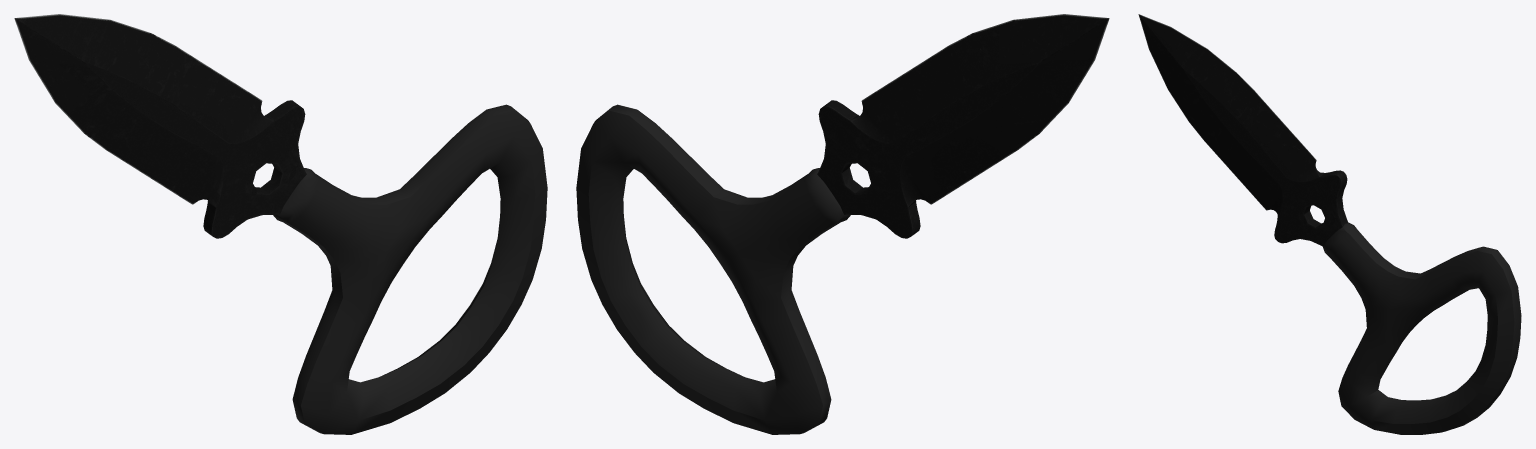
The model's file is benchmade_175_push_dagger_knife.glb.
3 renders of one model, left to right at view 1: azimuth 30°, elevation 25°; view 2: azimuth 150°, elevation 25°; view 3: azimuth 330°, elevation 25°, orthographic. The views are drawn at different scales.
Visible parts, largest first — view 1: Object_2; view 2: Object_2; view 3: Object_2.
Boxes of the visible parts, bbox=[...] form: Object_2: bbox=[14, 14, 547, 434]; Object_2: bbox=[576, 14, 1109, 434]; Object_2: bbox=[1138, 14, 1521, 434].
Bounding box in the file's own units: 117 × 104 × 7.69.
1 material, 1 textured.
